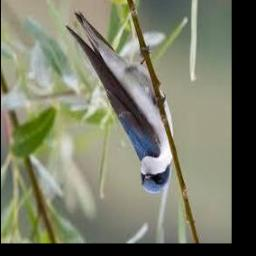Swallow: (66, 12, 174, 194)
